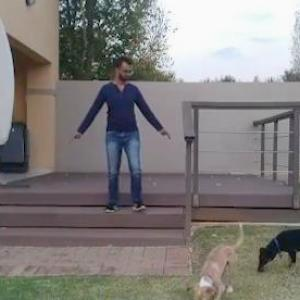land: (77, 59, 166, 225)
